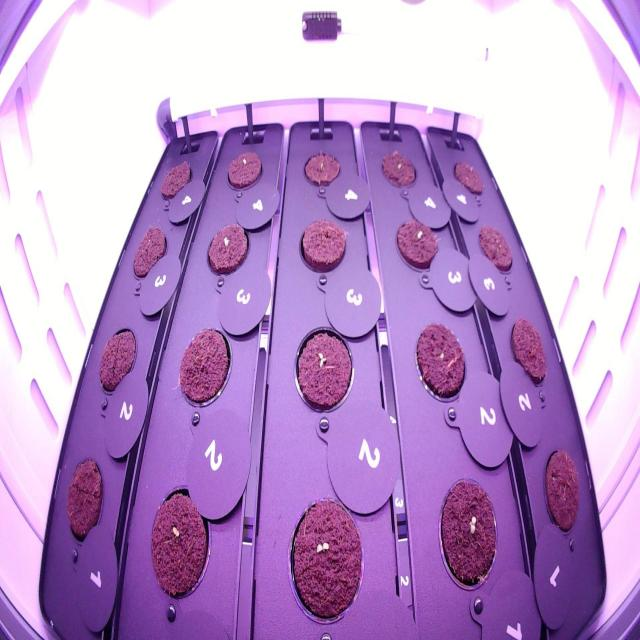germination: (280, 490, 368, 630), (142, 469, 216, 615), (432, 469, 500, 605), (289, 316, 358, 422), (390, 211, 444, 282), (202, 215, 253, 280)
pod: (174, 320, 235, 420), (411, 315, 470, 408), (536, 439, 584, 542), (61, 450, 108, 551), (504, 313, 551, 396), (94, 319, 138, 404), (294, 213, 350, 279), (474, 214, 519, 284), (128, 218, 170, 289), (446, 150, 488, 207), (300, 145, 346, 194), (376, 145, 420, 196), (223, 147, 266, 196), (157, 152, 194, 208)
